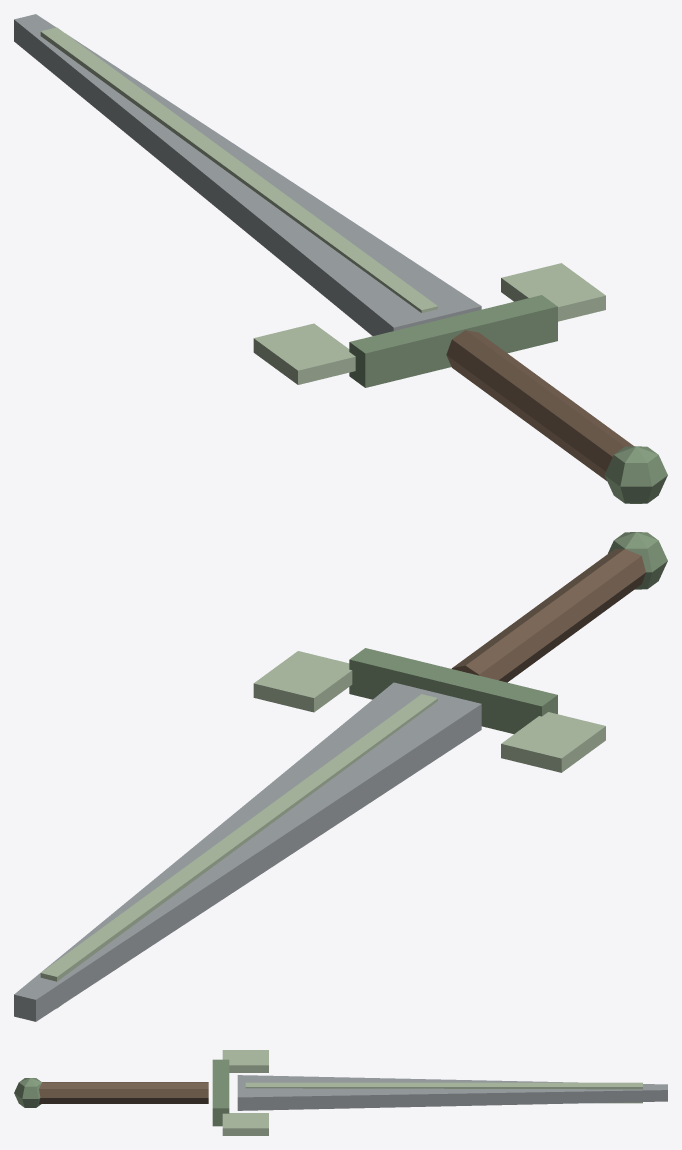
Rendered from DF_Twinleaf.fbx.
3 views of the same model, one above another, from view 1: azimuth 30°, elevation 25°; view 2: azimuth 150°, elevation 25°; view 3: azimuth 270°, elevation 25° (orthographic). The views are drawn at different scales.
Parts seen in each view (by area): view 1: DF_Twinleaf; view 2: DF_Twinleaf; view 3: DF_Twinleaf.
Boxes of the visible parts, x1,y1,x2,y2 form: DF_Twinleaf: (14, 14, 667, 503); DF_Twinleaf: (14, 532, 667, 1021); DF_Twinleaf: (14, 1050, 667, 1135).
Bounding box in the file's own units: 1.12 × 0.2 × 3.95.
